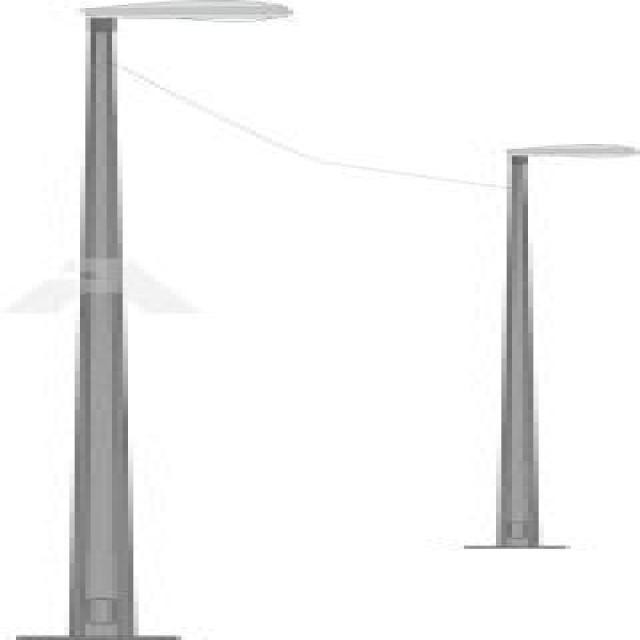pole: (29, 175, 198, 639), (468, 260, 595, 550)
